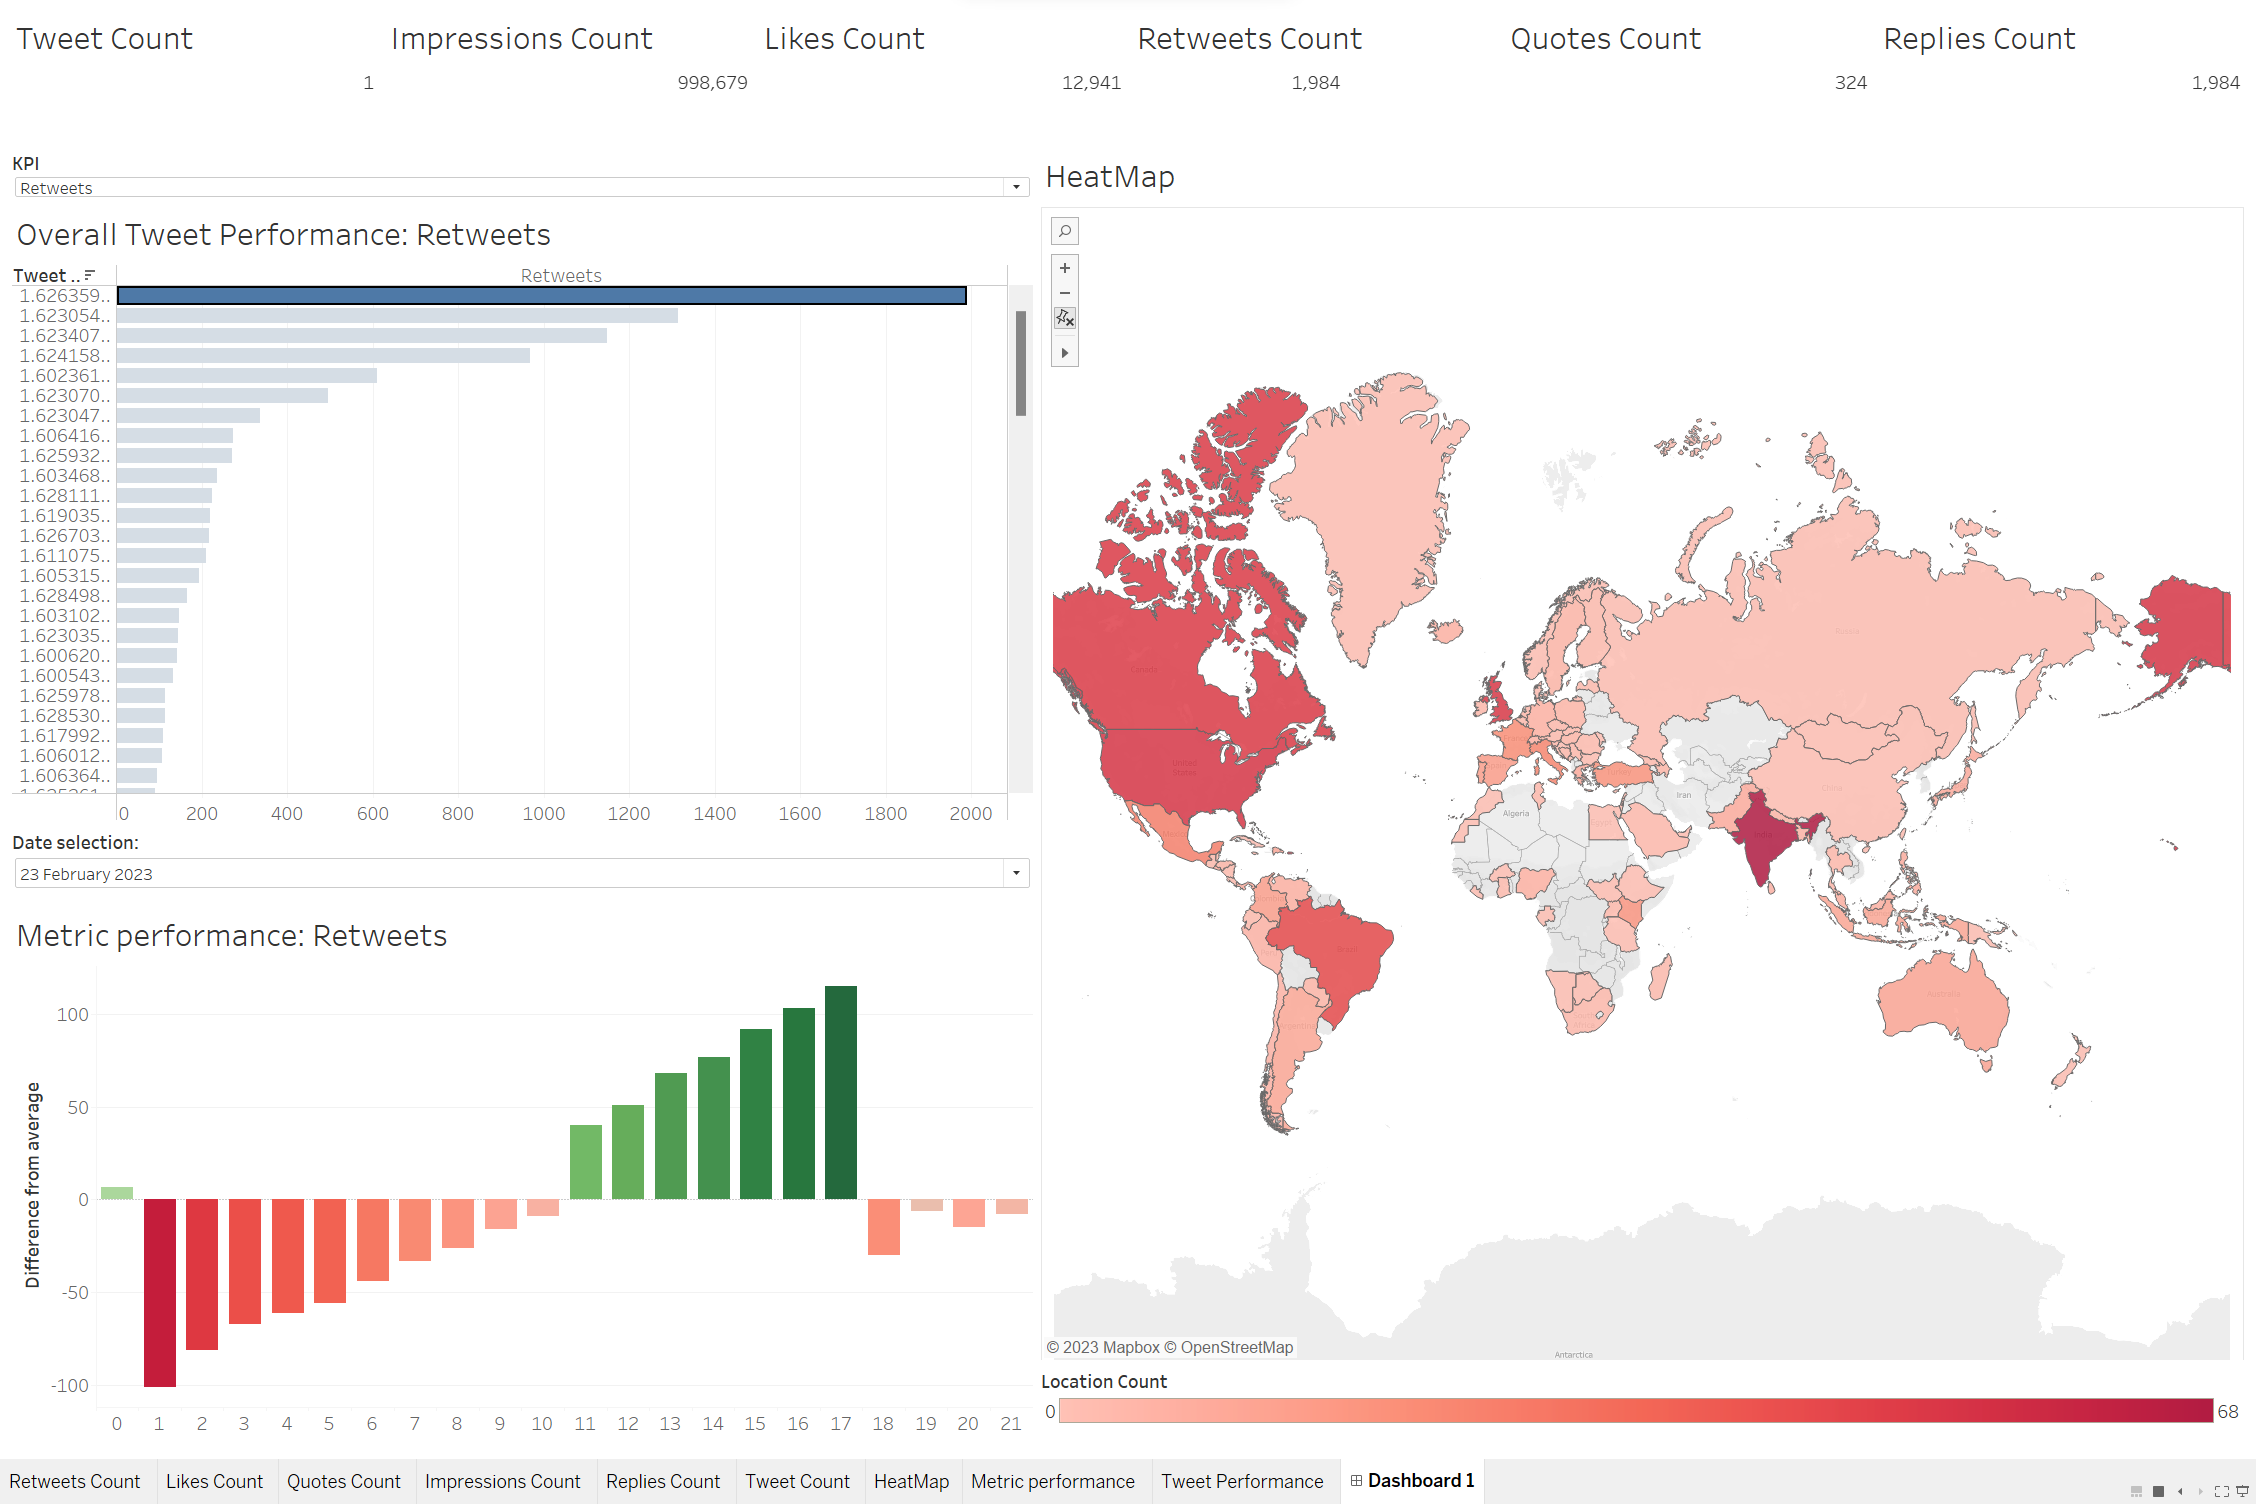

Layout of this report page (visuals, bound fields, positions):
{"tool":"tableau","page":{"name":"Dashboard 1","canvas":[1000,1000],"units":"permille","ordinal":0},"visuals":[{"type":"worksheet","title":"Tweet Count","mark":"Automatic","box":[4.7,8.8,165.6,94]},{"type":"worksheet","title":"Impressions Count","mark":"Automatic","box":[170.3,8.8,165,94]},{"type":"worksheet","title":"Likes Count","mark":"Automatic","box":[335.3,8.8,165,94]},{"type":"worksheet","title":"Retweets Count","mark":"Automatic","box":[500.3,8.8,165,94]},{"type":"worksheet","title":"Quotes Count","mark":"Automatic","box":[665.3,8.8,165,94]},{"type":"worksheet","title":"Replies Count","mark":"Automatic","box":[830.3,8.8,165,94]},{"type":"parameter","param":"[Parameters].[Parameter 1]","box":[4.7,102.6,455.3,39.6]},{"type":"worksheet","title":"HeatMap","mark":"Automatic","box":[460,102.6,535.3,829.6]},{"type":"worksheet","title":"Tweet Performance","mark":"Automatic","rows":["TweetID"],"cols":["Calculation_3845229723575554049"],"box":[4.7,142.2,455.3,422.7]},{"type":"filter","title":"Metric performance","param":"[federated.1hstvog186zlgm1a60qz70zu8sbw].[md:Calculation_3285657469246820356:ok]","box":[4.7,564.9,455.3,54.4]},{"type":"worksheet","title":"Metric performance","mark":"Bar","rows":["Calculation_3075114189160566796"],"cols":["Calculation_3285657469246820356"],"box":[4.7,619.3,455.3,371.8]},{"type":"legend","title":"HeatMap","param":"[federated.04t0c40131os4f1d3lejd0s8jry3].[usr:Calculation_3285657469238034432:qk","box":[460,932.2,535.3,59]}]}

Visuals, with their boxes on the dashboard's canvas, which has no fixed pixel size, in thousandths of its width and height (x1, y1, x2, y2). These are canvas units, not pixel positions in the 2256x1504 screenshot, which may show the page scaled, cropped or inside an application window:
"Tweet Count" worksheet: bbox=(5, 9, 170, 103)
"Impressions Count" worksheet: bbox=(170, 9, 335, 103)
"Likes Count" worksheet: bbox=(335, 9, 500, 103)
"Retweets Count" worksheet: bbox=(500, 9, 665, 103)
"Quotes Count" worksheet: bbox=(665, 9, 830, 103)
"Replies Count" worksheet: bbox=(830, 9, 995, 103)
parameter: bbox=(5, 103, 460, 142)
"HeatMap" worksheet: bbox=(460, 103, 995, 932)
"Tweet Performance" worksheet: bbox=(5, 142, 460, 565)
"Metric performance" filter: bbox=(5, 565, 460, 619)
"Metric performance" worksheet (Bar marks): bbox=(5, 619, 460, 991)
"HeatMap" legend: bbox=(460, 932, 995, 991)
